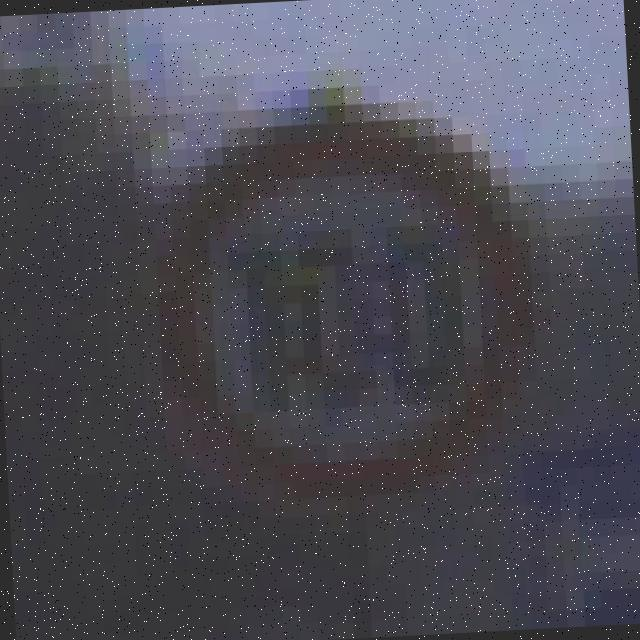Ograniczenie predkosci do 100: (156, 116, 534, 497)
